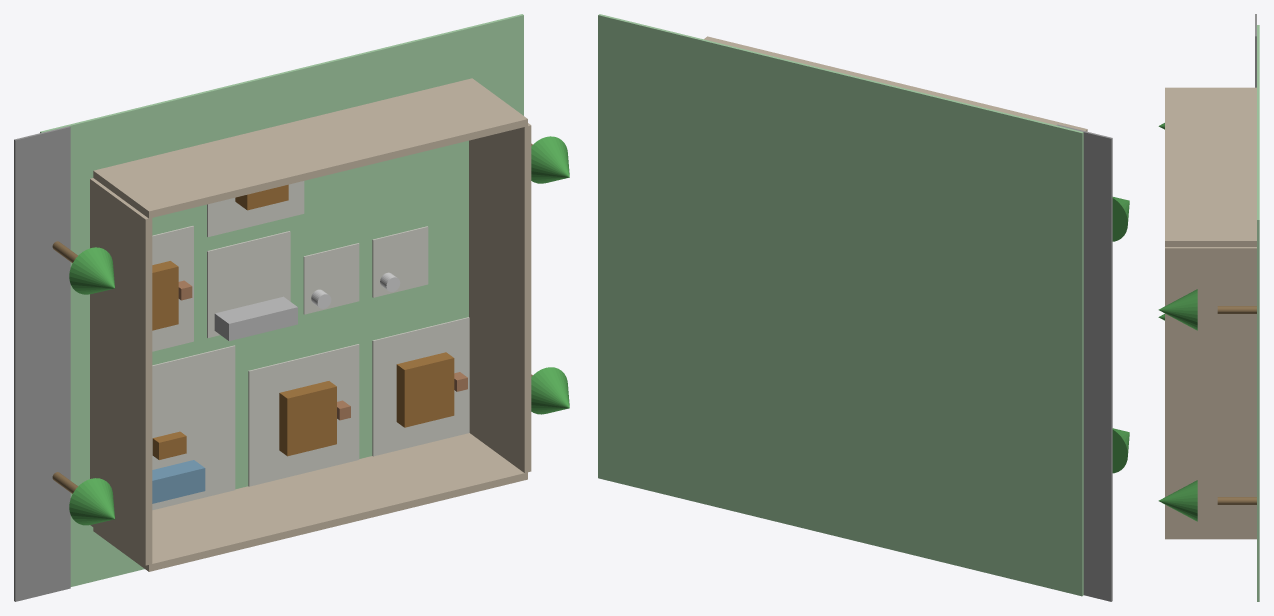
The model's file is house_20251101_114619.glb.
3 views of the same model, side by side, from view 1: azimuth 30°, elevation 25°; view 2: azimuth 150°, elevation 25°; view 3: azimuth 270°, elevation 25° (orthographic). The views are drawn at different scales.
Parts seen in each view (by area): view 1: Ground, Driveway, Wall_South, Wall_North, Wall_West, Wall_East, Living Room_floor, Bedroom 1_floor, Bedroom 2_floor, Kitchen_floor, Bedroom 2_Bed, Bedroom 1_Bed (+13 smaller); view 2: Ground, Driveway, Wall_South; view 3: Wall_West, Wall_South, Ground, Tree_3_foliage, Tree_4_foliage, Wall_North, Tree_3_trunk, Tree_4_trunk.
Part boxes in pixels (x1,y1,x2,y2): Ground: (40, 14, 523, 586); Driveway: (14, 126, 70, 601); Wall_South: (93, 78, 527, 218); Wall_North: (93, 433, 527, 571); Wall_West: (469, 123, 531, 472); Wall_East: (90, 178, 152, 565); Living Room_floor: (152, 345, 235, 510); Bedroom 1_floor: (248, 344, 359, 486); Bedroom 2_floor: (372, 317, 469, 456); Kitchen_floor: (207, 231, 290, 337); Bedroom 2_Bed: (396, 352, 454, 427); Bedroom 1_Bed: (279, 381, 336, 456); Ground: (598, 14, 1083, 596); Driveway: (1056, 124, 1112, 601); Wall_South: (704, 36, 1087, 131); Wall_West: (1165, 247, 1256, 534); Wall_South: (1165, 87, 1256, 246); Ground: (1257, 25, 1259, 601); Tree_3_foliage: (1158, 480, 1197, 521); Tree_4_foliage: (1158, 289, 1197, 330); Wall_North: (1165, 534, 1256, 539); Tree_3_trunk: (1217, 497, 1256, 504); Tree_4_trunk: (1217, 306, 1256, 313).
Bounding box in the file's own units: 18.8 × 16 × 3.85.
